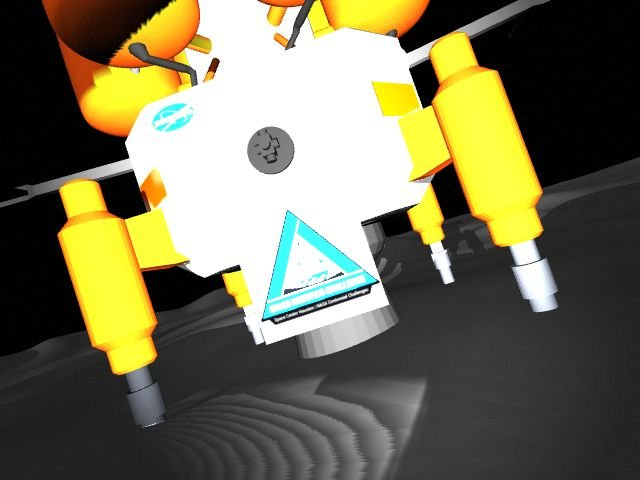basemarker: (260, 209, 380, 325)
